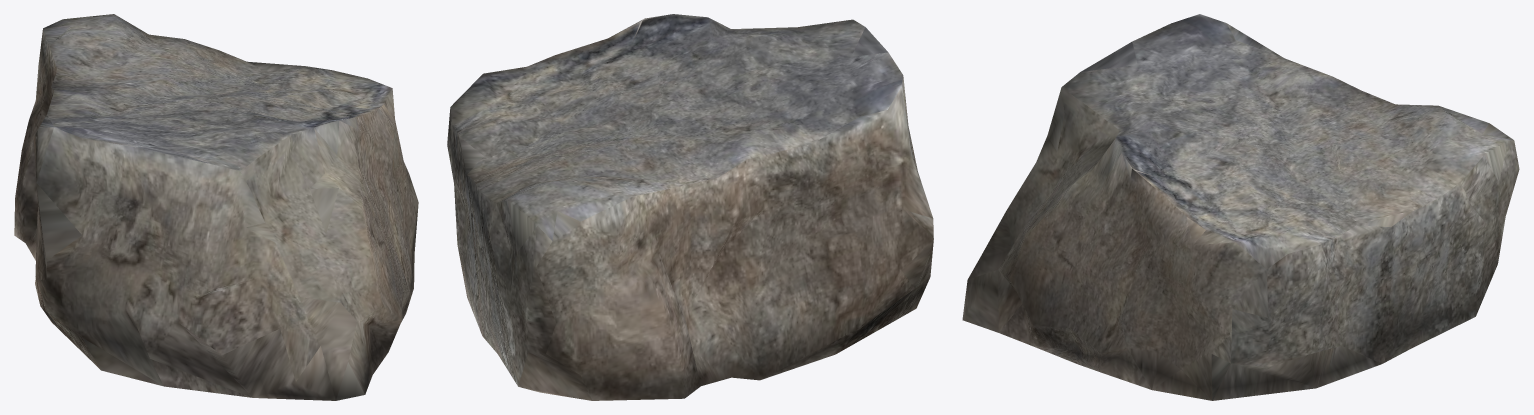
The model's file is boulder_b_lod2.glb.
The picture shows the model from 3 angles, left to right: view 1: azimuth 30°, elevation 25°; view 2: azimuth 150°, elevation 25°; view 3: azimuth 270°, elevation 25°; orthographic projection. The views are drawn at different scales.
Visible parts, largest first — view 1: boulder_b_lod2; view 2: boulder_b_lod2; view 3: boulder_b_lod2.
Boxes of the visible parts, x1=… form: boulder_b_lod2: x1=14, y1=14, x2=418, y2=400; boulder_b_lod2: x1=447, y1=14, x2=933, y2=400; boulder_b_lod2: x1=962, y1=14, x2=1519, y2=400.
Bounding box in the file's own units: 3.44 × 1.9 × 4.39.
1 material, 1 textured.
